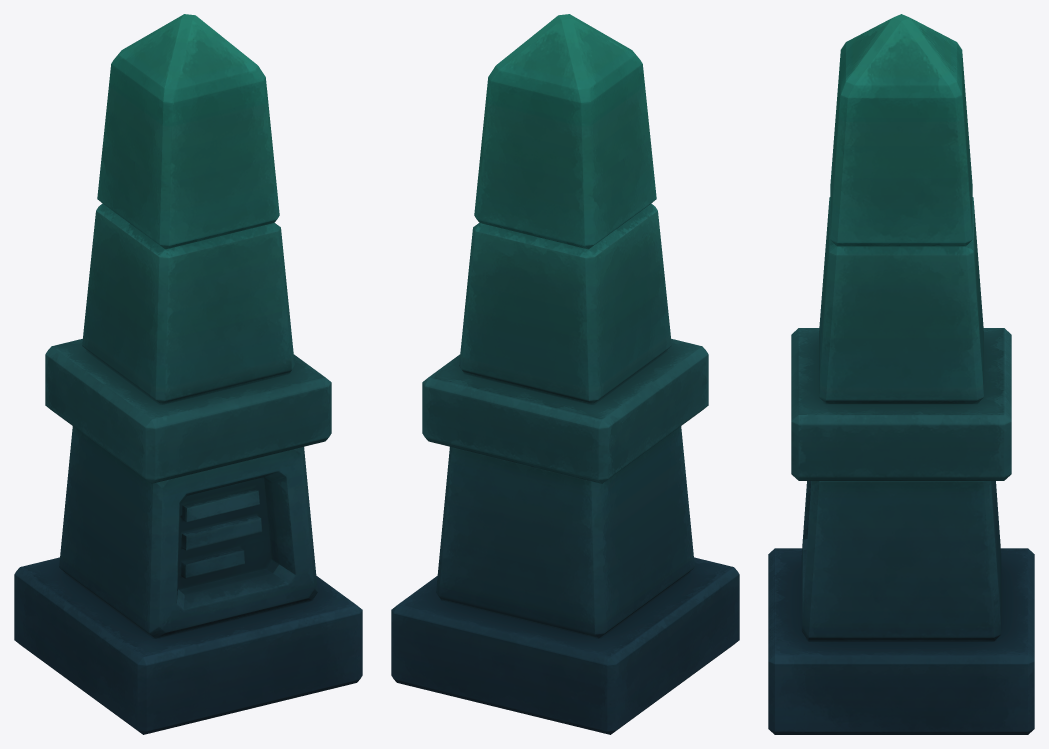
Rendered from stylized_low-poly_jade_obelisk.glb.
The picture shows the model from 3 angles, left to right: view 1: azimuth 30°, elevation 25°; view 2: azimuth 150°, elevation 25°; view 3: azimuth 270°, elevation 25°; orthographic projection. The views are drawn at different scales.
Parts seen in each view (by area): view 1: Cube.001; view 2: Cube.001; view 3: Cube.001.
Boxes of the visible parts, left/top/right/bottom form: Cube.001: left=14, top=14, right=362, bottom=734; Cube.001: left=391, top=14, right=739, bottom=734; Cube.001: left=768, top=14, right=1034, bottom=734.
Size of the model in its own units: 2 by 5.5 by 2.
1 material, 1 textured.
